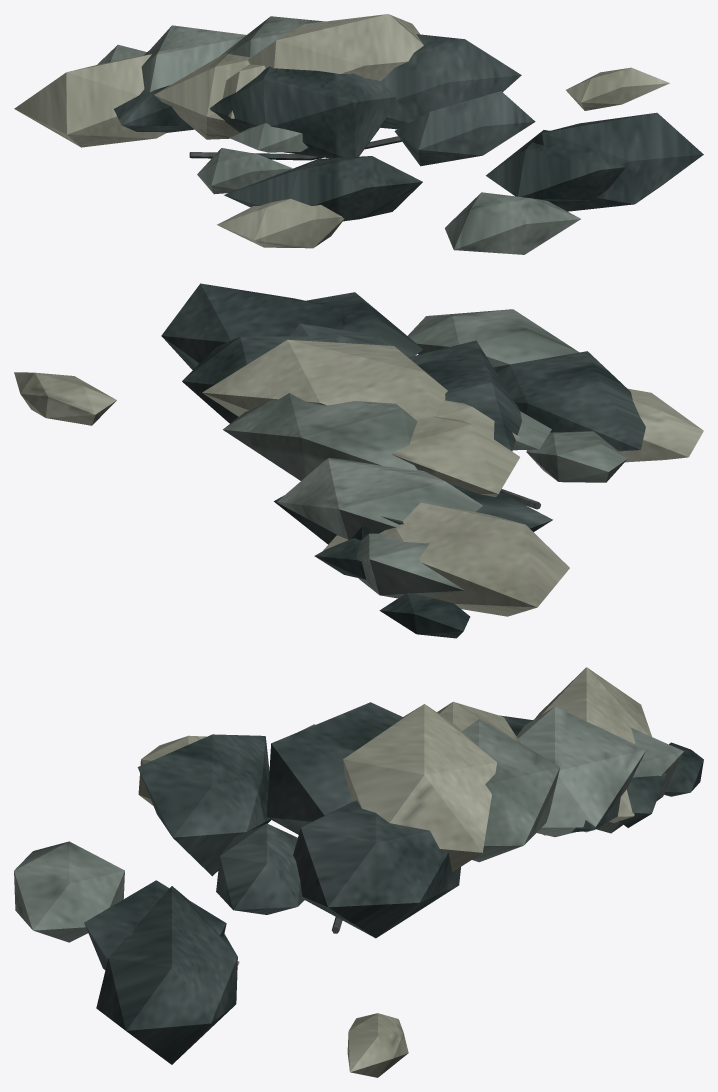
Rendered from 0101_scree_pile_01.glb.
3 renders of one model, top to bottom at view 1: azimuth 30°, elevation 25°; view 2: azimuth 150°, elevation 25°; view 3: azimuth 270°, elevation 25°, orthographic. The views are drawn at different scales.
Parts seen in each view (by area): view 1: stone_dark, stone_light, stone, iron; view 2: stone_light, stone_dark, stone; view 3: stone_dark, stone, stone_light.
Part boxes in pixels (x1,y1,x2,y2): stone_dark: [114, 34, 703, 221]; stone_light: [14, 14, 669, 248]; stone: [97, 16, 580, 254]; iron: [189, 136, 401, 160]; stone_light: [14, 339, 703, 616]; stone_dark: [161, 283, 645, 638]; stone: [223, 309, 627, 598]; stone_dark: [84, 702, 703, 1064]; stone: [14, 706, 683, 942]; stone_light: [138, 667, 651, 1077].
Size of the model in its own units: 3 by 0.7584 by 2.59.
Materials: 4 (4 with a texture image).
